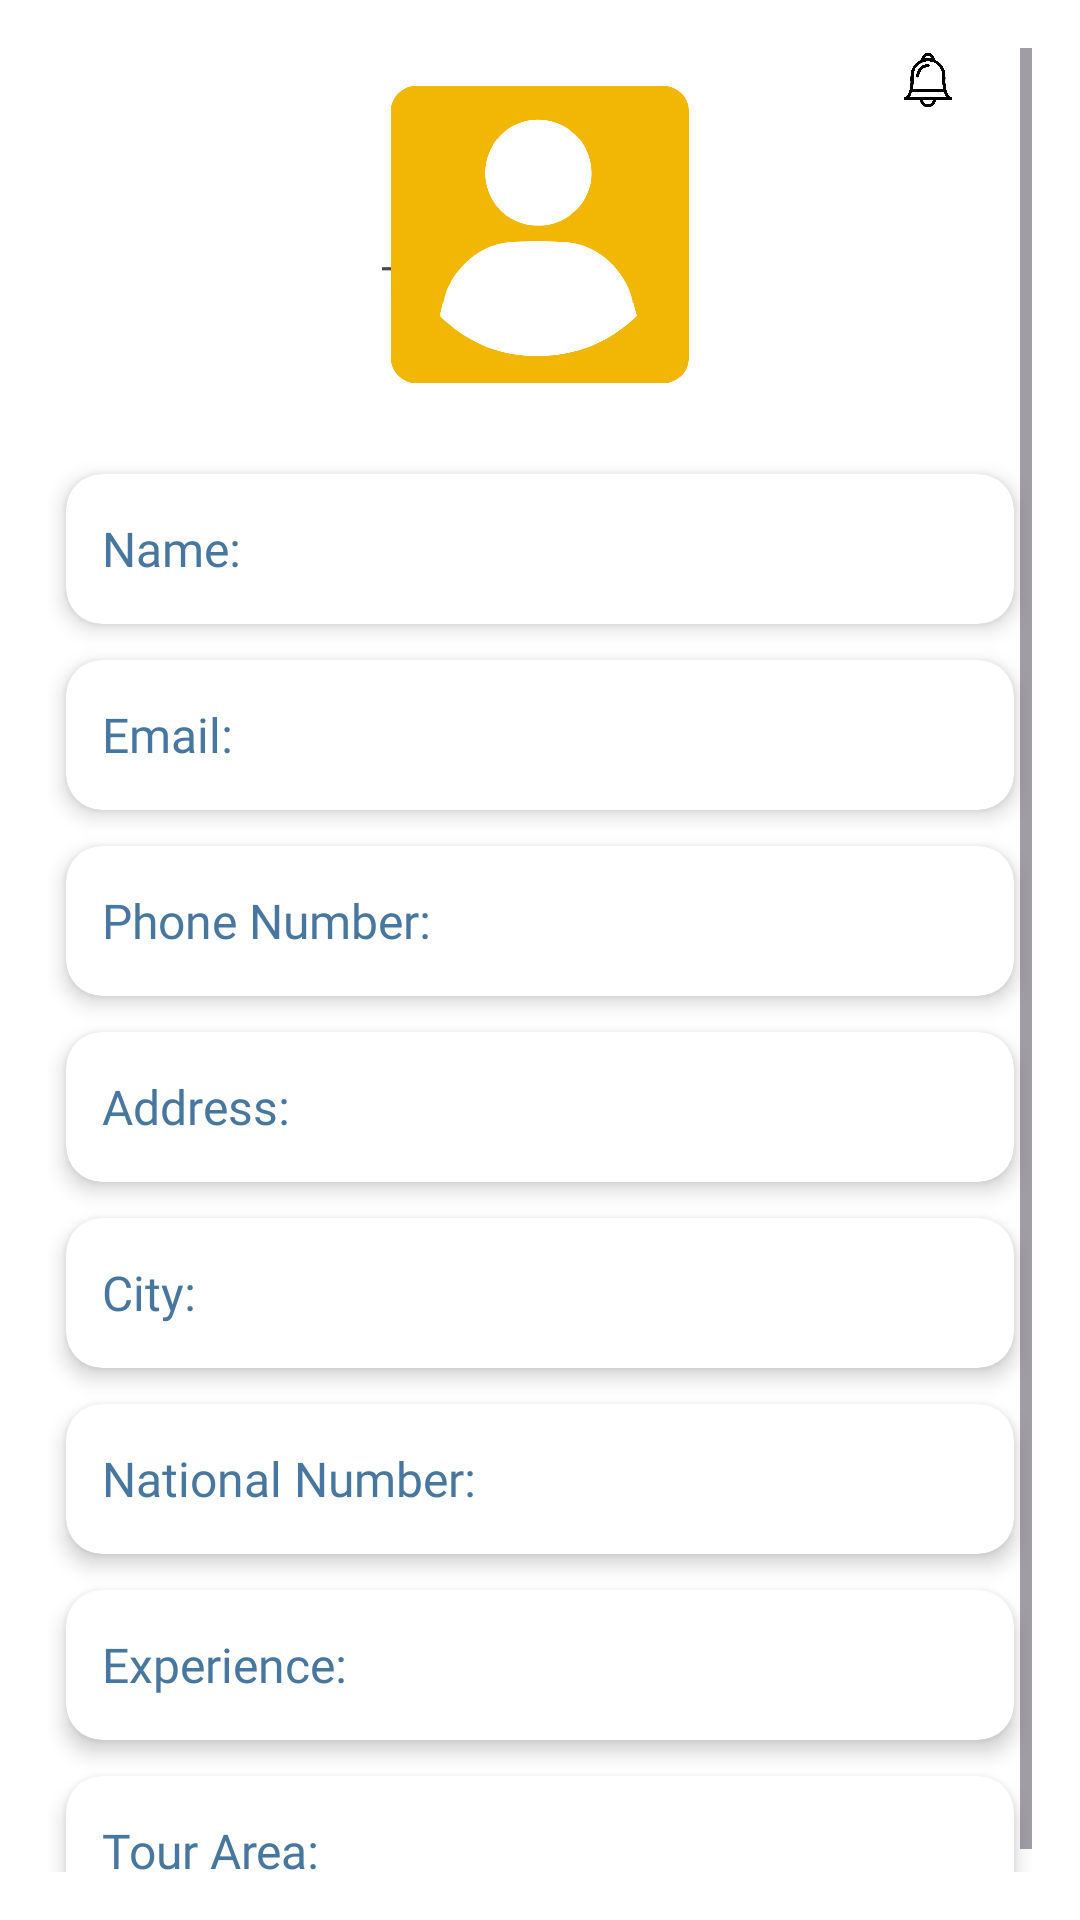

Named icons in this screenshot (1080w x 1920h) and their bounding boxes, (x1, y1, x2, y2):
bellicon: (904, 53, 952, 107)
Profile Image: (382, 86, 689, 383)
